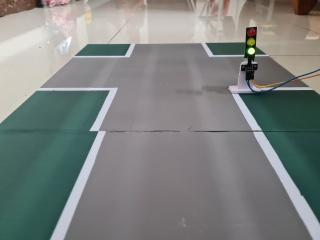green: (242, 18, 263, 62)
